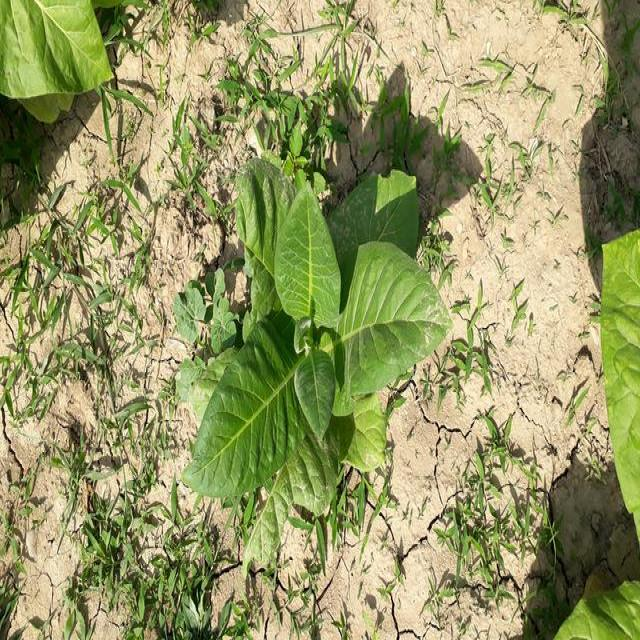crop: (196, 162, 440, 554), (581, 228, 640, 514), (0, 4, 111, 96)
